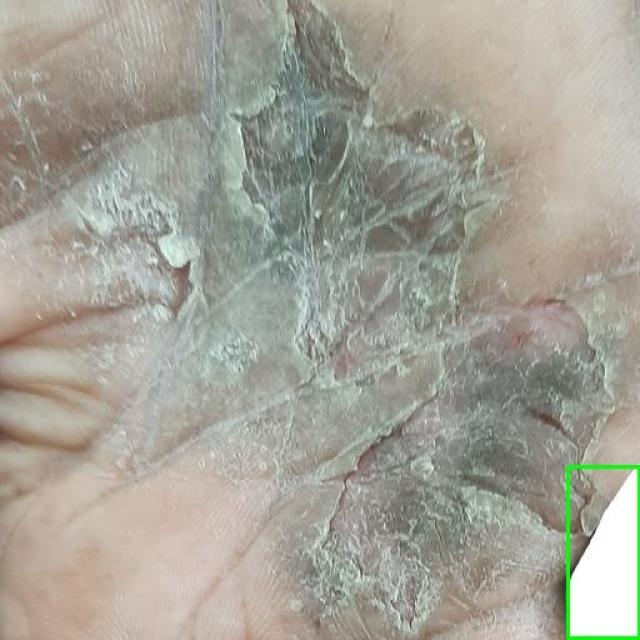Contact Dermatitis: (568, 468, 639, 639)
